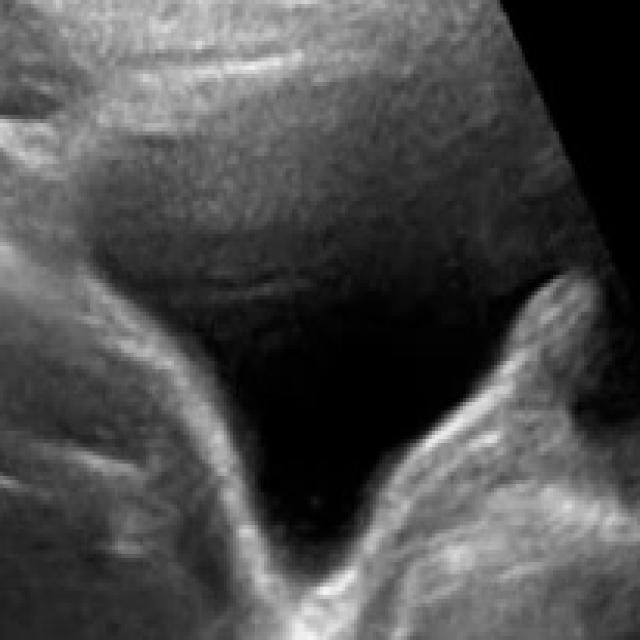bladder: (62, 5, 602, 618)
